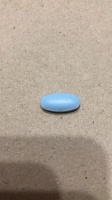Apranax: (39, 92, 81, 115)
